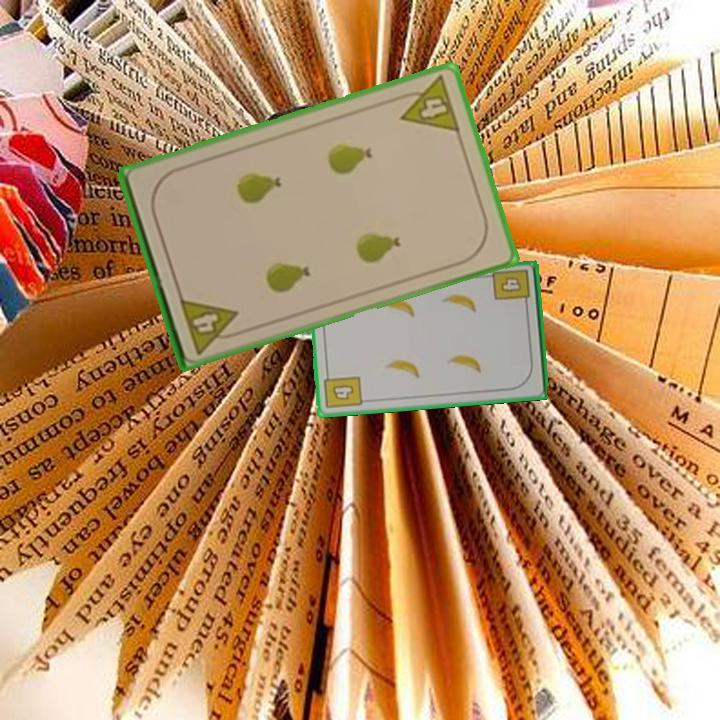4b: (321, 368, 365, 412), (489, 266, 533, 310)
4p: (391, 72, 463, 135), (176, 294, 245, 357)
